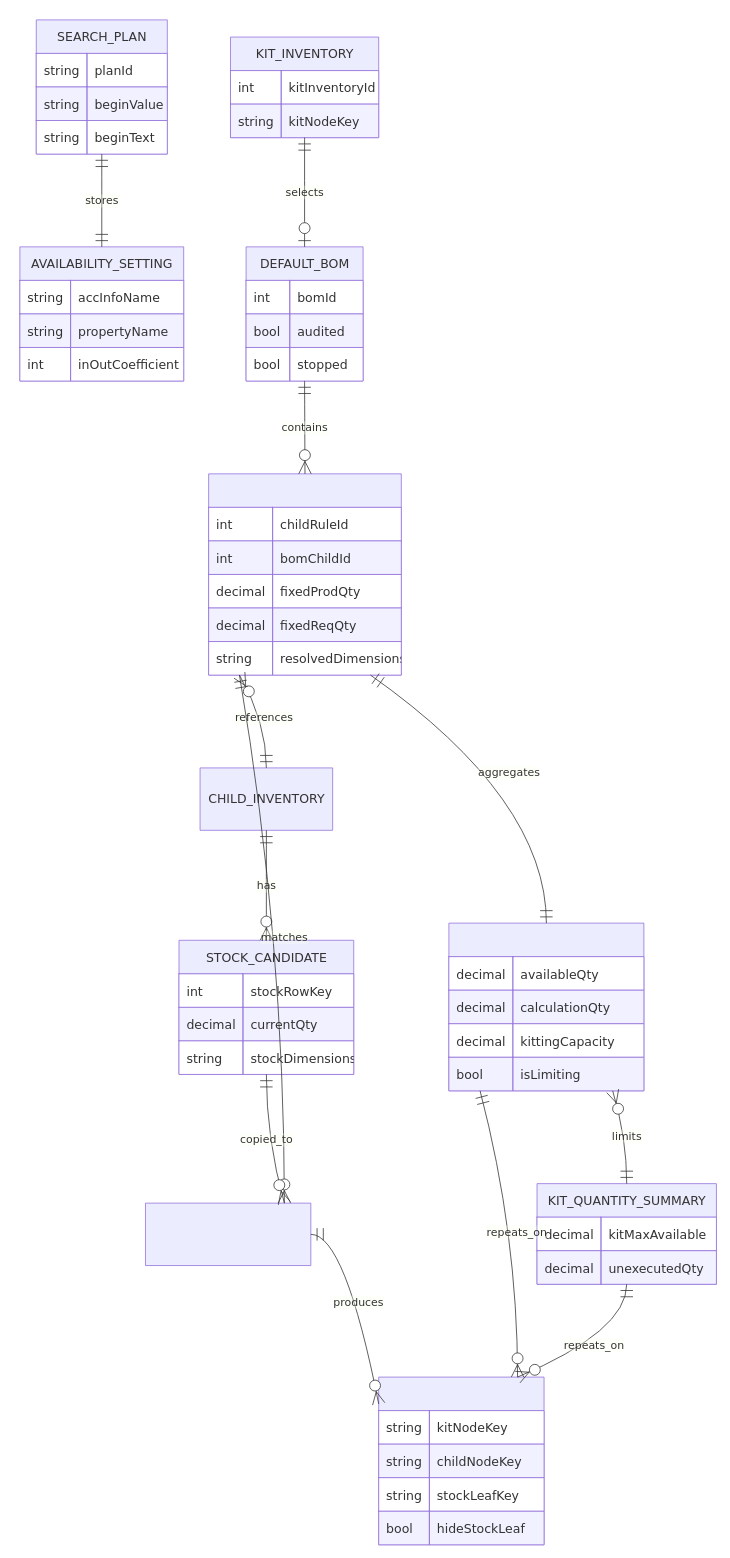
Some shapes in this 730 by 1558 pixel diagram are drawn without their labels. Each missing label, with the box of its shape:
BOM_CHILD_RULE: (208, 473, 401, 675)
CHILD_QUANTITY_SUMMARY: (448, 922, 644, 1091)
MATCHED_CHILD_STOCK: (145, 1202, 311, 1266)
REPORT_SOURCE_ROW: (378, 1376, 544, 1545)
